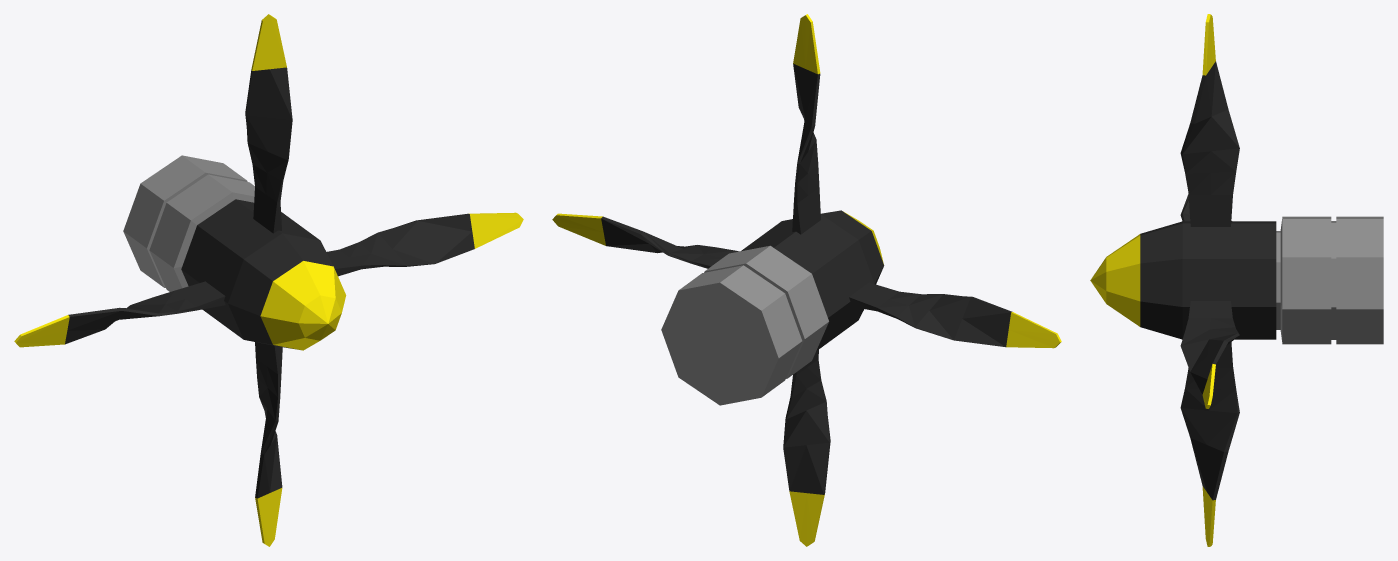
The model's file is bnFWquDqjEp.glb.
3 views of the same model, side by side, from view 1: azimuth 30°, elevation 25°; view 2: azimuth 150°, elevation 25°; view 3: azimuth 270°, elevation 25° (orthographic).
Parts seen in each view (by area): view 1: Node; view 2: Node; view 3: Node.
Boxes of the visible parts, x1,y1,x2,y2 form: Node: [14, 14, 523, 546]; Node: [552, 14, 1061, 546]; Node: [1090, 14, 1383, 546].
Size of the model in its own units: 1 by 1 by 0.4989.
